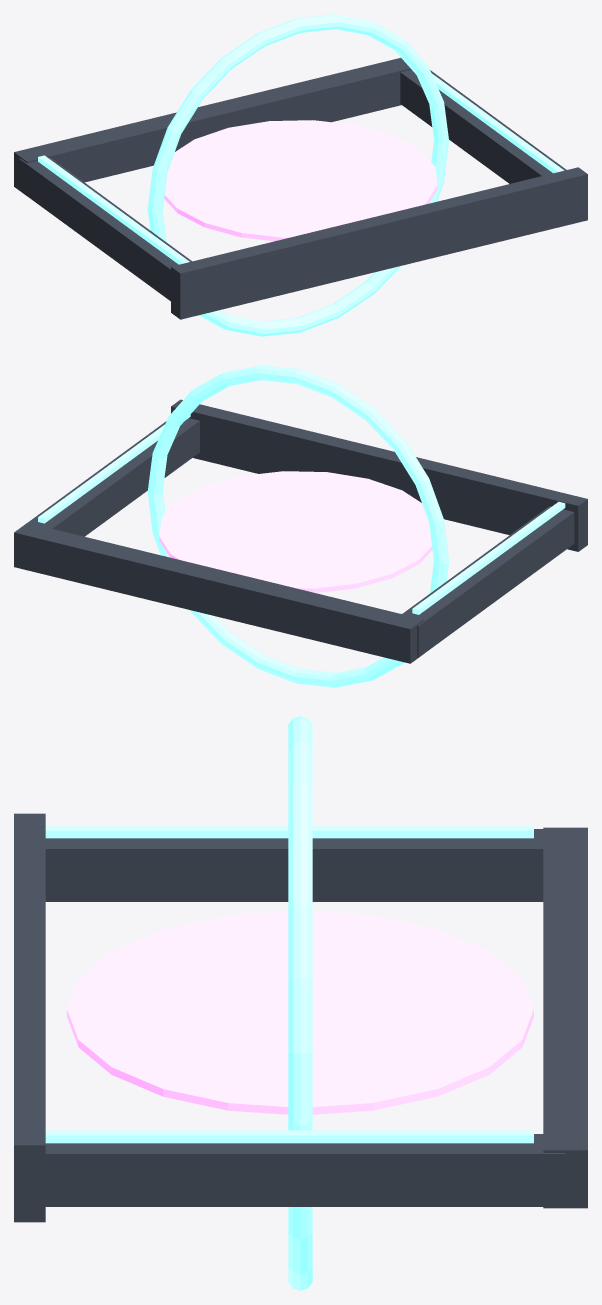
Rendered from interact_end_portal.glb.
The picture shows the model from 3 angles, top to bottom: view 1: azimuth 30°, elevation 25°; view 2: azimuth 150°, elevation 25°; view 3: azimuth 270°, elevation 25°; orthographic projection. The views are drawn at different scales.
Visible parts, largest first — view 1: interact_end_portal; view 2: interact_end_portal; view 3: interact_end_portal.
Part boxes in pixels (x1,y1,x2,y2): interact_end_portal: [14, 14, 587, 336]; interact_end_portal: [14, 365, 587, 687]; interact_end_portal: [14, 716, 587, 1290].
Size of the model in its own units: 7.4 by 5.44 by 5.41.
